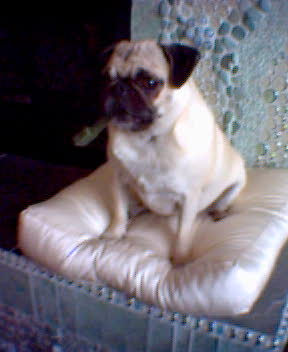dog: (97, 37, 249, 272)
